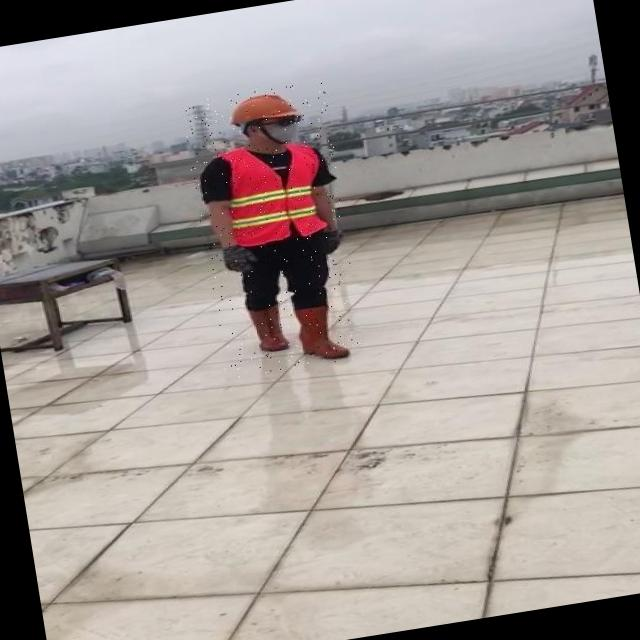boots: (293, 300, 351, 364), (246, 303, 288, 354)
gloves: (228, 71, 308, 160), (306, 218, 361, 284), (207, 226, 262, 292)
helmet: (223, 86, 304, 130)
vest: (220, 138, 332, 248)
